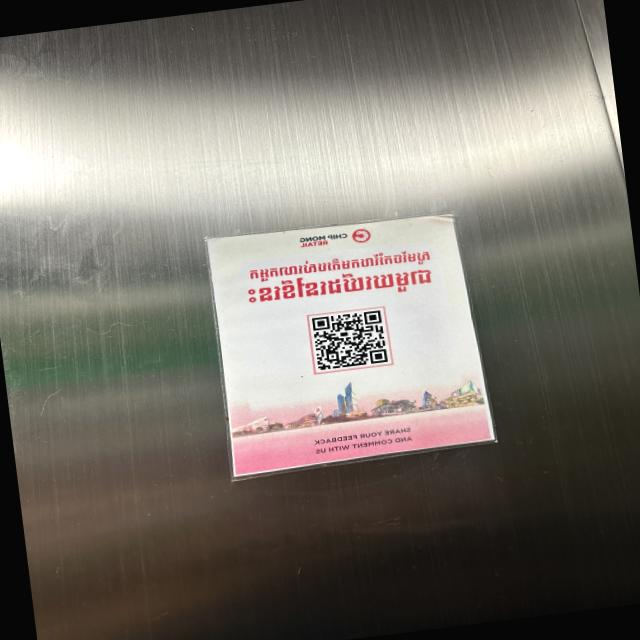Yolov11kh: (244, 266, 439, 313), (244, 245, 436, 285)
